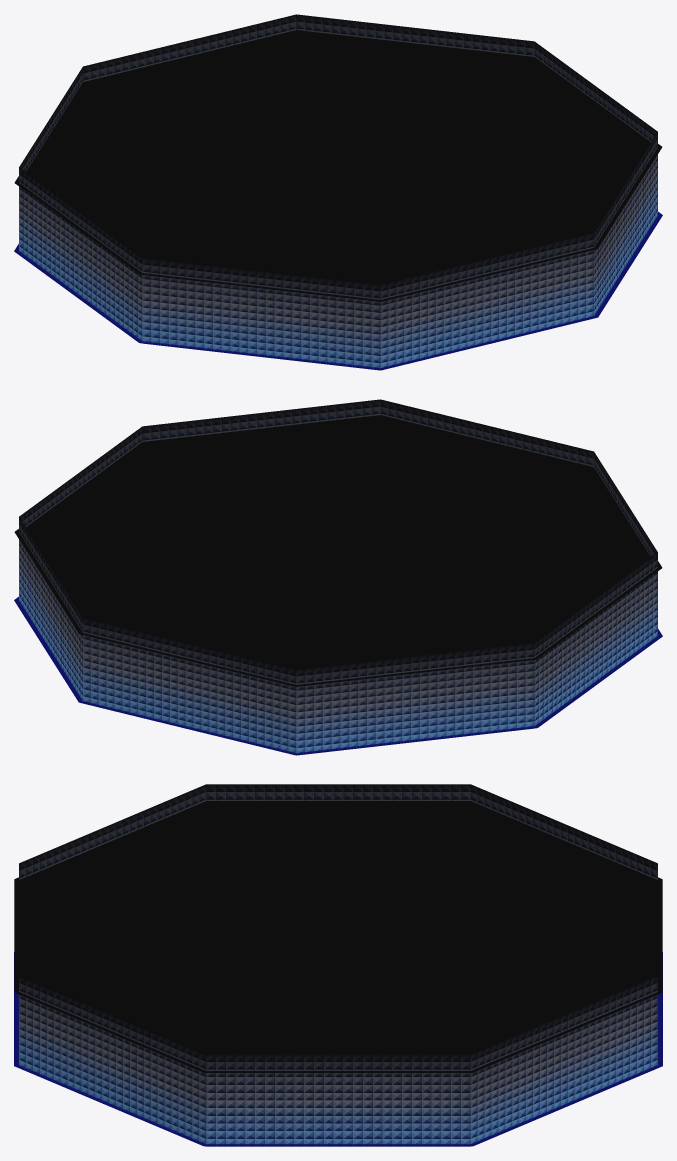
The model's file is MR_stage1.glb.
3 renders of one model, top to bottom at view 1: azimuth 30°, elevation 25°; view 2: azimuth 150°, elevation 25°; view 3: azimuth 270°, elevation 25°, orthographic. The views are drawn at different scales.
Visible parts, largest first — view 1: MR_stage1; view 2: MR_stage1; view 3: MR_stage1.
Boxes of the visible parts, x1,y1,x2,y2 form: MR_stage1: (14, 14, 662, 370); MR_stage1: (14, 399, 662, 755); MR_stage1: (14, 784, 662, 1146).
Size of the model in its own units: 584 by 121 by 584.
Materials: 10 (10 with a texture image).
